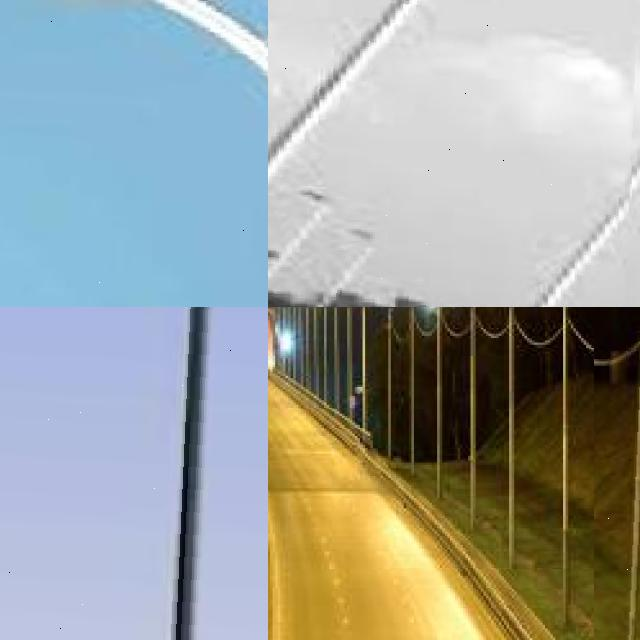street light: (268, 0, 640, 307), (0, 307, 268, 640), (0, 0, 268, 307), (441, 0, 640, 307), (522, 307, 571, 631), (593, 307, 640, 640), (478, 307, 518, 569), (583, 128, 640, 307), (445, 307, 477, 530), (413, 307, 442, 503), (385, 307, 412, 470), (370, 307, 393, 461), (341, 307, 370, 429), (329, 307, 340, 410)
